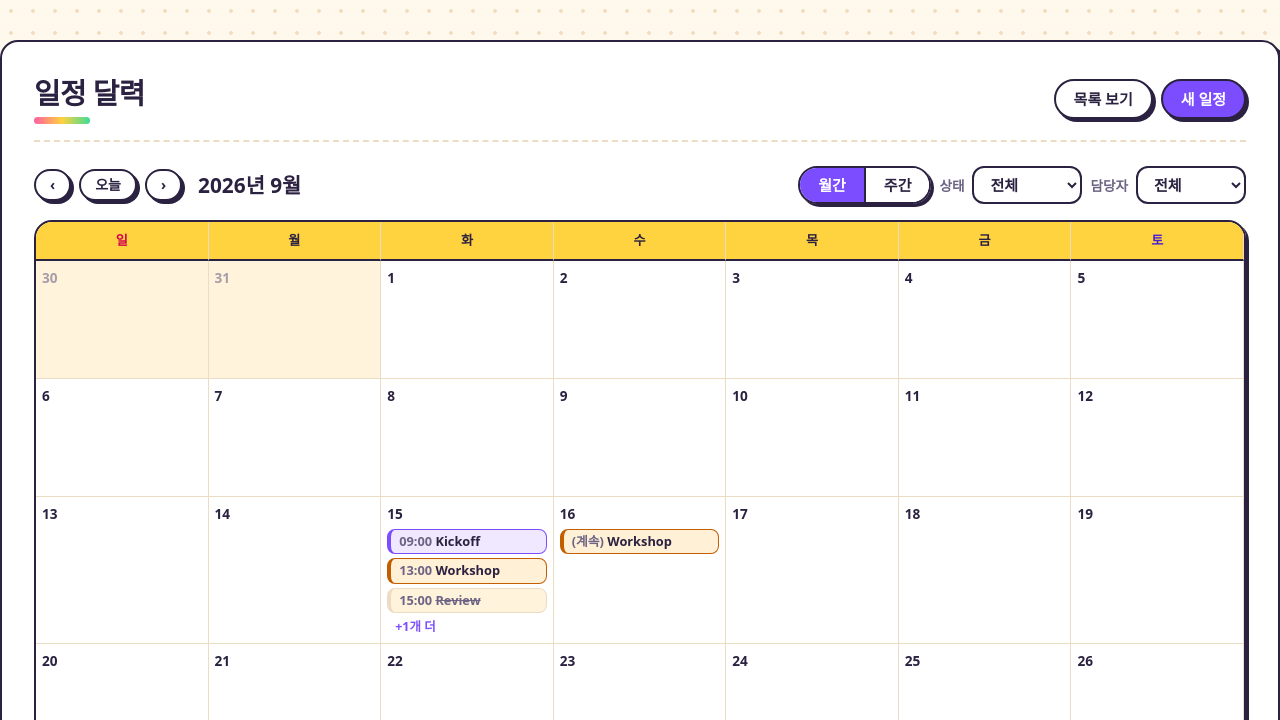
Test case: ScheduleCalendarPage › opens the week of a crowded day with every schedule and time ranges
Click the button named "9월 15일 (화) 일정 1개 더 보기" at (415, 627), box [387,617,444,637]
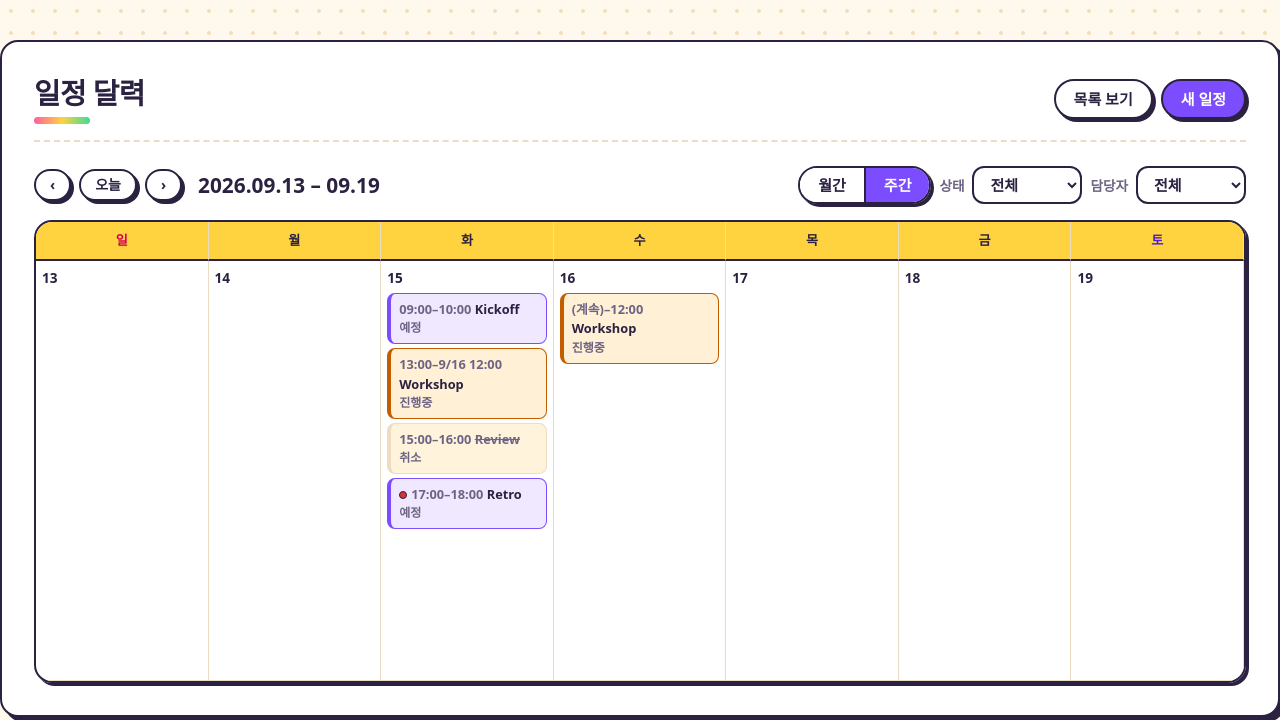
Expected: the heading "2026.09.13 – 09.19" is shown, [198,169,380,202]
Expected: the link "17:00–18:00 Retro 예정" is shown, [387,478,547,529]
Expected: the link "09:00–10:00 Kickoff 예정" is shown, [387,293,547,344]
